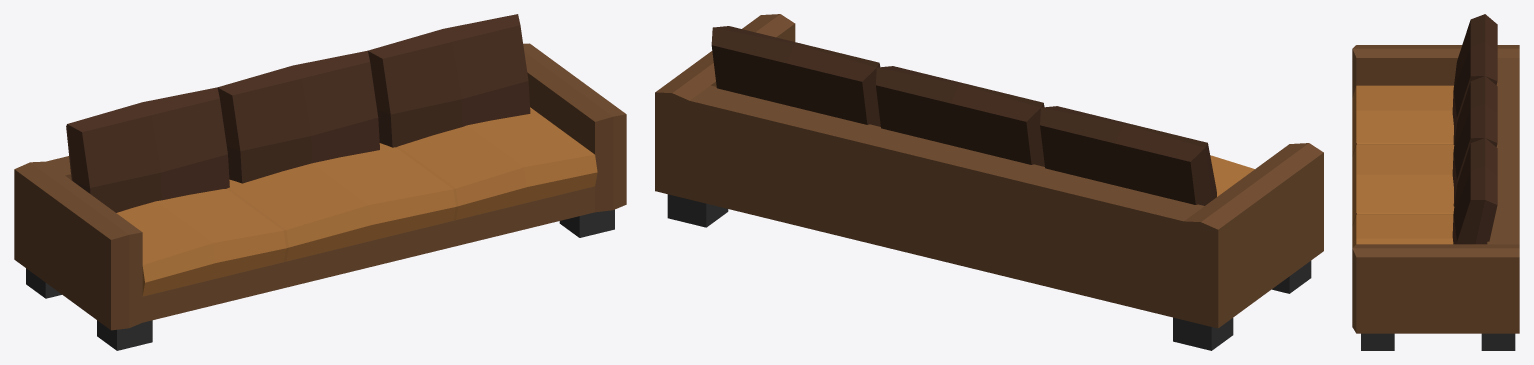
File: Prop_Sofa_02_G.fbx
The picture shows the model from 3 angles, left to right: view 1: azimuth 30°, elevation 25°; view 2: azimuth 150°, elevation 25°; view 3: azimuth 270°, elevation 25°; orthographic projection. The views are drawn at different scales.
Parts seen in each view (by area): view 1: Prop_Sofa_02_G; view 2: Prop_Sofa_02_G; view 3: Prop_Sofa_02_G.
Boxes of the visible parts, x1,y1,x2,y2 form: Prop_Sofa_02_G: (14,14,626,350); Prop_Sofa_02_G: (655,14,1323,350); Prop_Sofa_02_G: (1352,14,1519,350).
Bounding box in the file's own units: 300 × 95 × 100.
